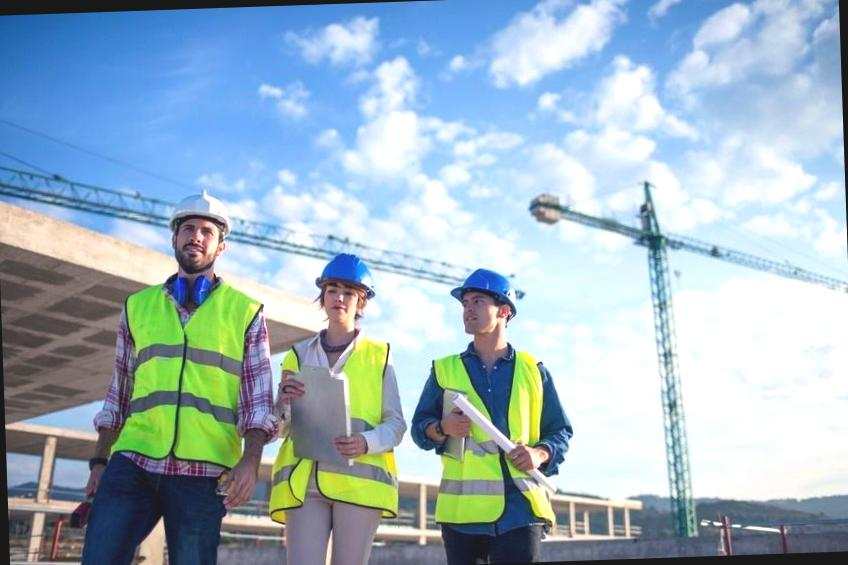helmet: (448, 265, 524, 334), (164, 184, 234, 252), (307, 248, 383, 306)
person: (73, 182, 287, 565), (404, 262, 566, 560), (268, 250, 405, 562)
